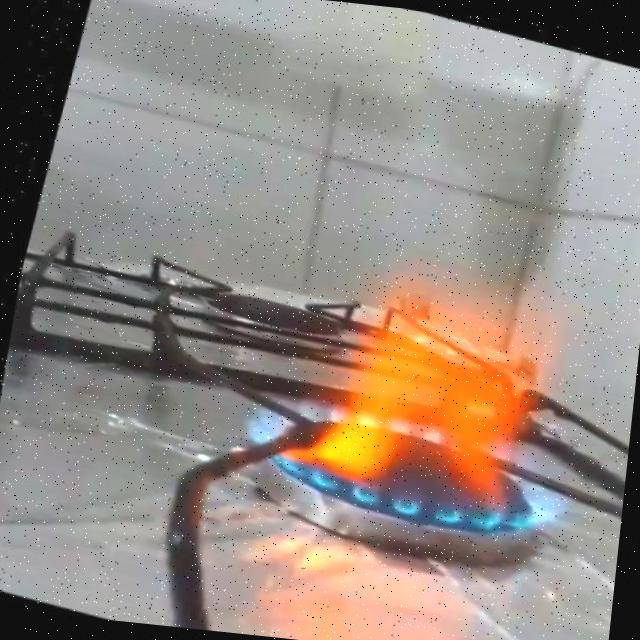fire: (211, 210, 621, 554)
